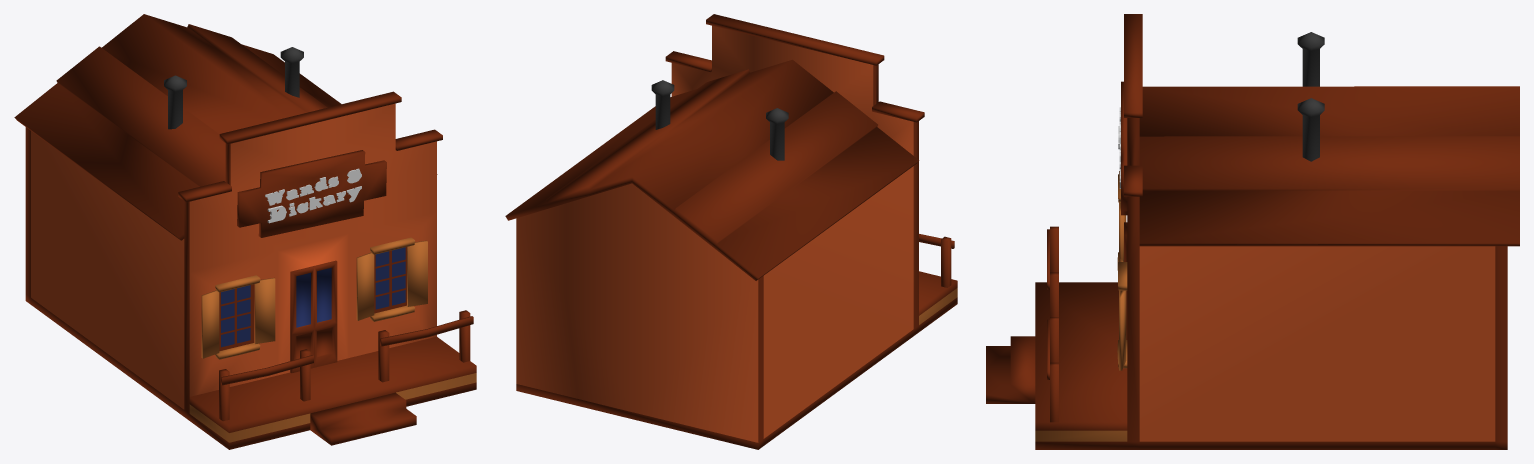
File: Western_Wands&Dickary.fbx
The picture shows the model from 3 angles, left to right: view 1: azimuth 30°, elevation 25°; view 2: azimuth 150°, elevation 25°; view 3: azimuth 270°, elevation 25°; orthographic projection. The views are drawn at different scales.
Parts seen in each view (by area): view 1: WesternBuilding_Shop_Wands; view 2: WesternBuilding_Shop_Wands; view 3: WesternBuilding_Shop_Wands.
Boxes of the visible parts, x1,y1,x2,y2 form: WesternBuilding_Shop_Wands: (14, 14, 476, 449); WesternBuilding_Shop_Wands: (505, 14, 957, 449); WesternBuilding_Shop_Wands: (986, 14, 1519, 449).
Size of the model in its own units: 566 by 570 by 870.
1 material, 1 textured.
